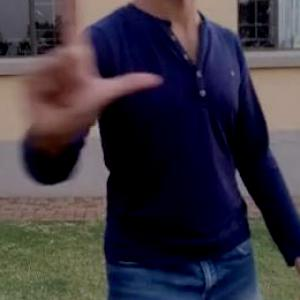land_hand: (26, 0, 166, 142)
